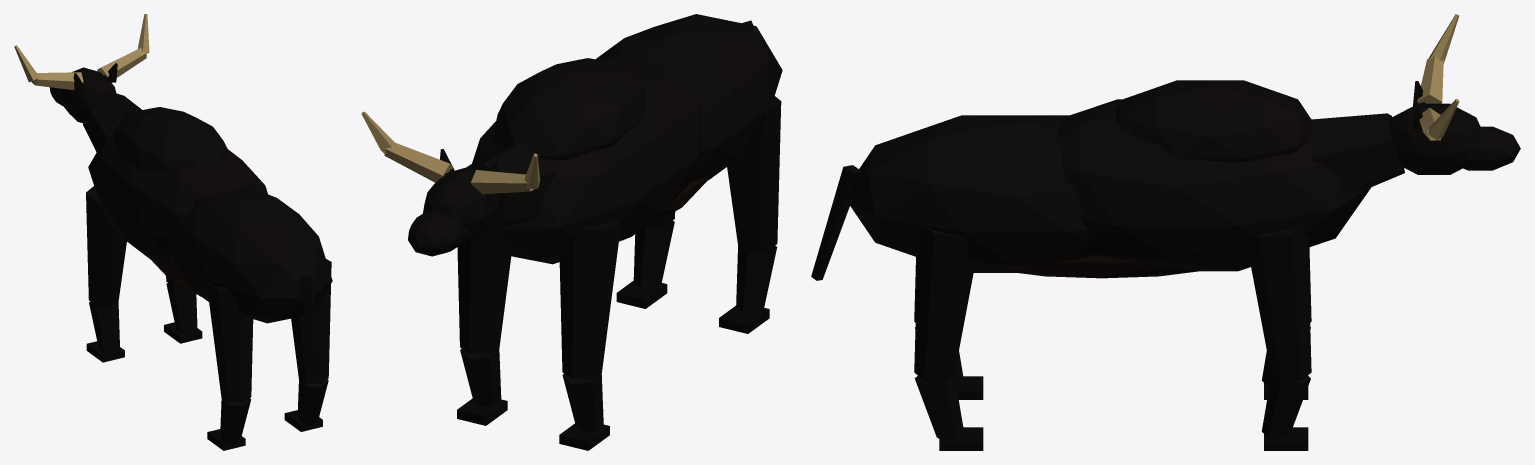
File: animal_aurochs.fbx
The picture shows the model from 3 angles, left to right: view 1: azimuth 30°, elevation 25°; view 2: azimuth 150°, elevation 25°; view 3: azimuth 270°, elevation 25°; orthographic projection. The views are drawn at different scales.
Visible parts, largest first — view 1: animal_aurochs; view 2: animal_aurochs; view 3: animal_aurochs.
Boxes of the visible parts, box(x1,y1,x2,y2) form: animal_aurochs: box(14, 14, 332, 450); animal_aurochs: box(361, 14, 782, 450); animal_aurochs: box(811, 14, 1520, 450).
Bounding box in the file's own units: 1.03 × 1.99 × 3.54.
